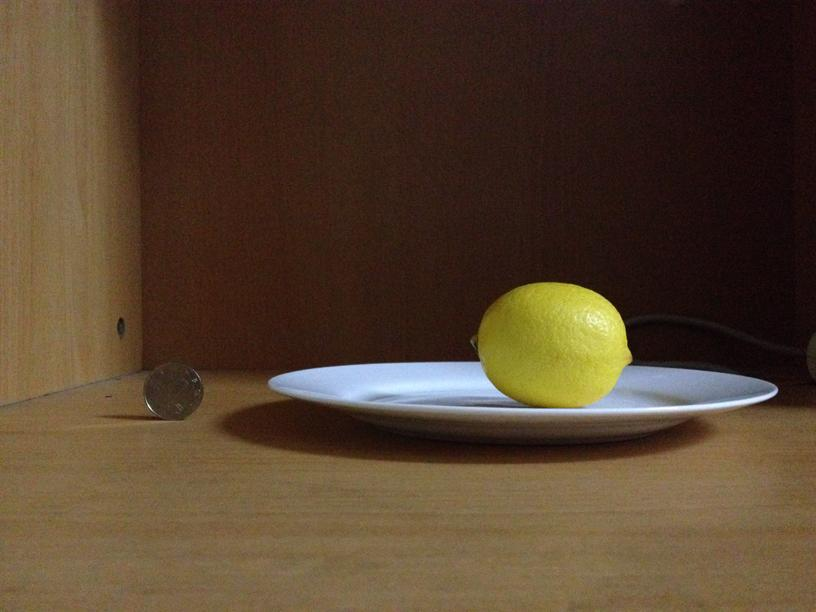coin: (143, 361, 205, 421)
lemon: (471, 286, 634, 406)
